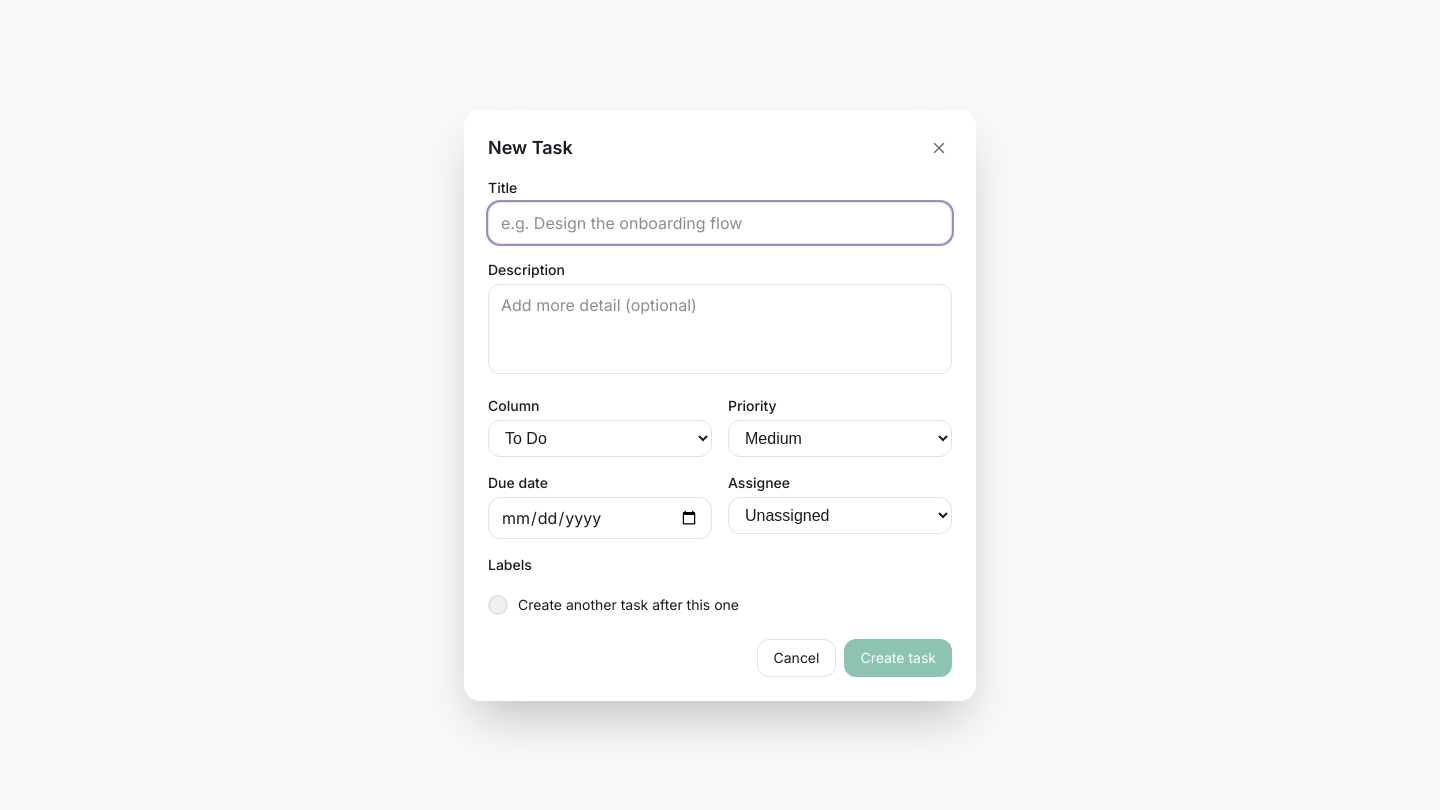
Test case: CreateTaskModal - create mode › disables submit until a title is entered, then enables it
The image size is (1440, 810).
Expected: the button "Create task" is disabled, [844, 638, 952, 676]
Type "Write onboarding docs" into the field labelled "Title".
click(720, 222); type("Write onboarding docs")  # box [488, 202, 952, 244]
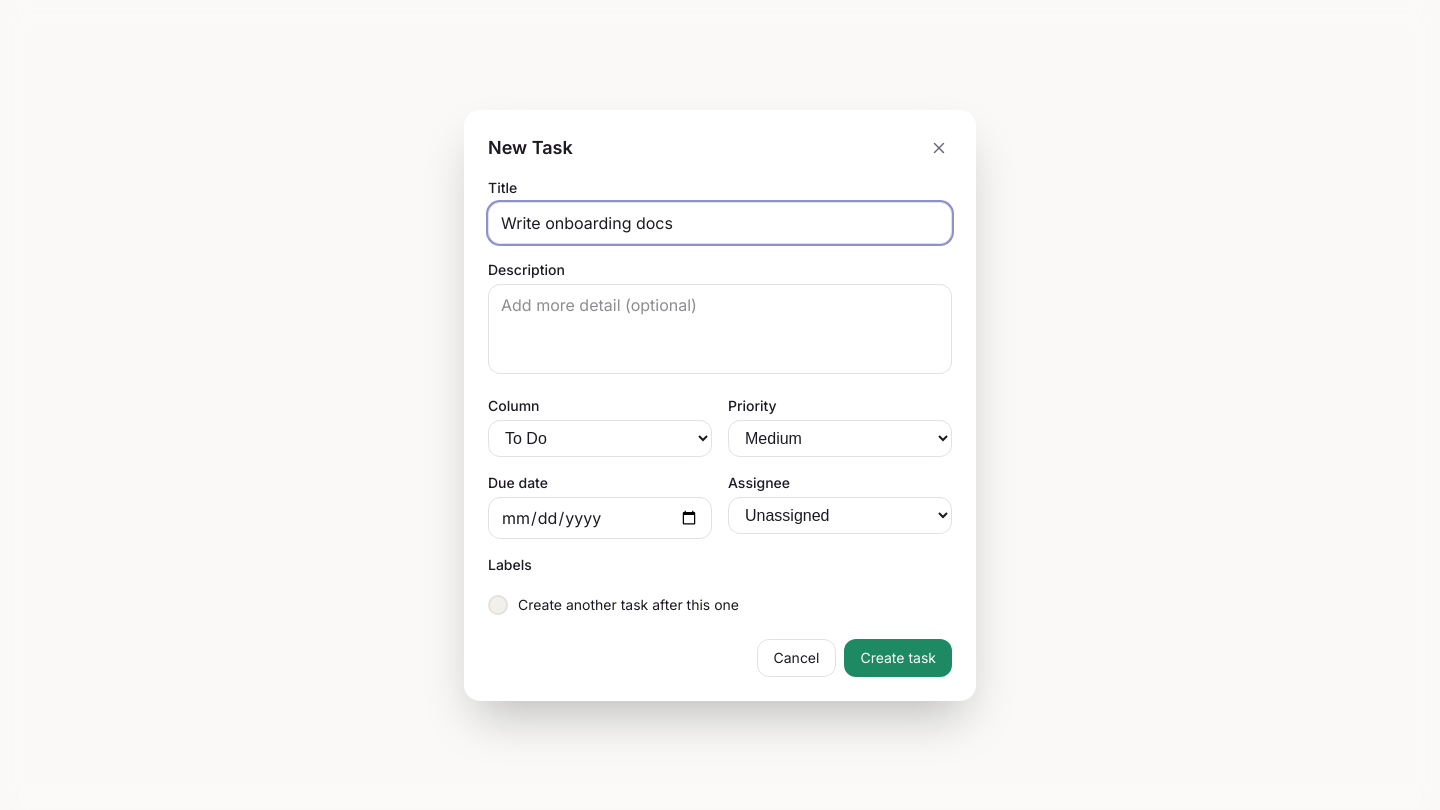
Result: the button "Create task" is enabled at [844, 638, 952, 676]
